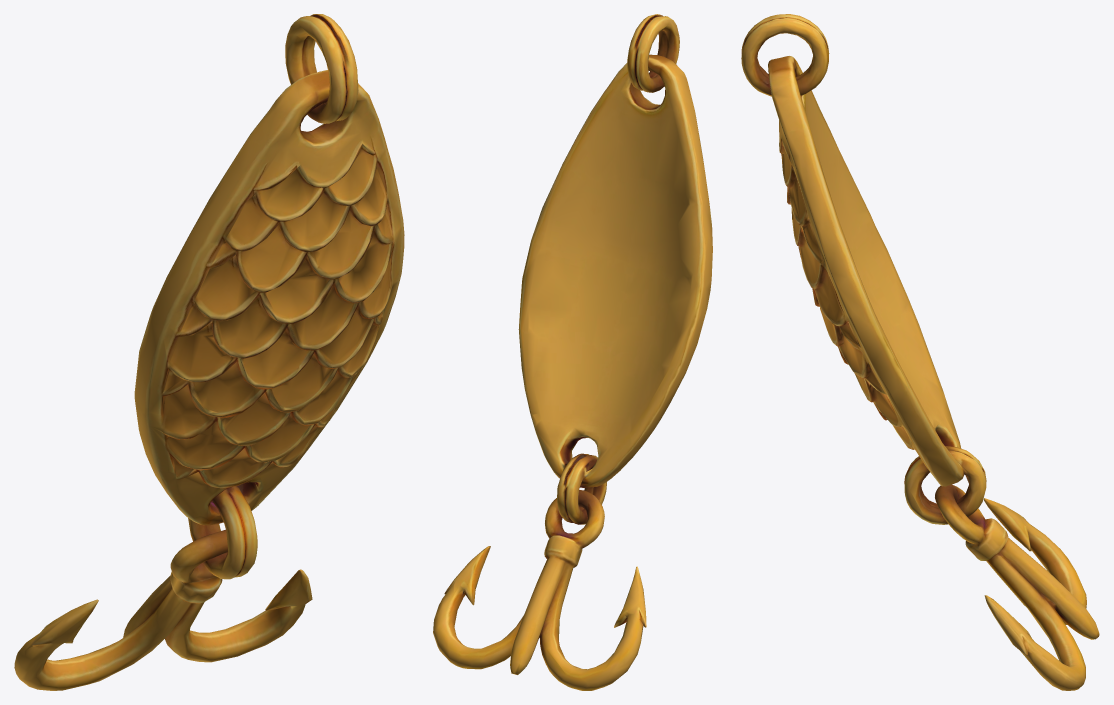
Rendered from gear-goldspoon.glb.
3 views of the same model, side by side, from view 1: azimuth 30°, elevation 25°; view 2: azimuth 150°, elevation 25°; view 3: azimuth 270°, elevation 25° (orthographic). The views are drawn at different scales.
Visible parts, largest first — view 1: tripo_node_50b388a8-cf59-4249-a324-b4b5ede8e6b6; view 2: tripo_node_50b388a8-cf59-4249-a324-b4b5ede8e6b6; view 3: tripo_node_50b388a8-cf59-4249-a324-b4b5ede8e6b6.
Boxes of the visible parts, bbox=[...] form: tripo_node_50b388a8-cf59-4249-a324-b4b5ede8e6b6: bbox=[14, 14, 404, 690]; tripo_node_50b388a8-cf59-4249-a324-b4b5ede8e6b6: bbox=[433, 14, 712, 690]; tripo_node_50b388a8-cf59-4249-a324-b4b5ede8e6b6: bbox=[741, 14, 1099, 690].
Bounding box in the file's own units: 0.3714 × 0.9998 × 0.5092.
1 material, 1 textured.
